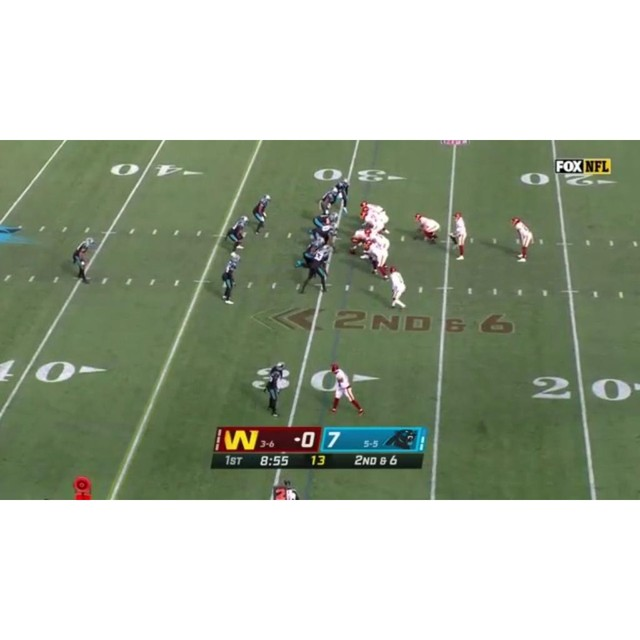american-football-player: (328, 363, 365, 416), (296, 245, 335, 294), (260, 361, 290, 419), (509, 216, 534, 263), (362, 240, 390, 281), (72, 237, 95, 283), (220, 253, 240, 305), (449, 211, 468, 261), (387, 265, 407, 311), (226, 216, 249, 254), (414, 213, 440, 245), (252, 194, 271, 237), (318, 185, 343, 215), (311, 225, 339, 249), (349, 228, 373, 256), (331, 180, 350, 212), (312, 211, 340, 232)
